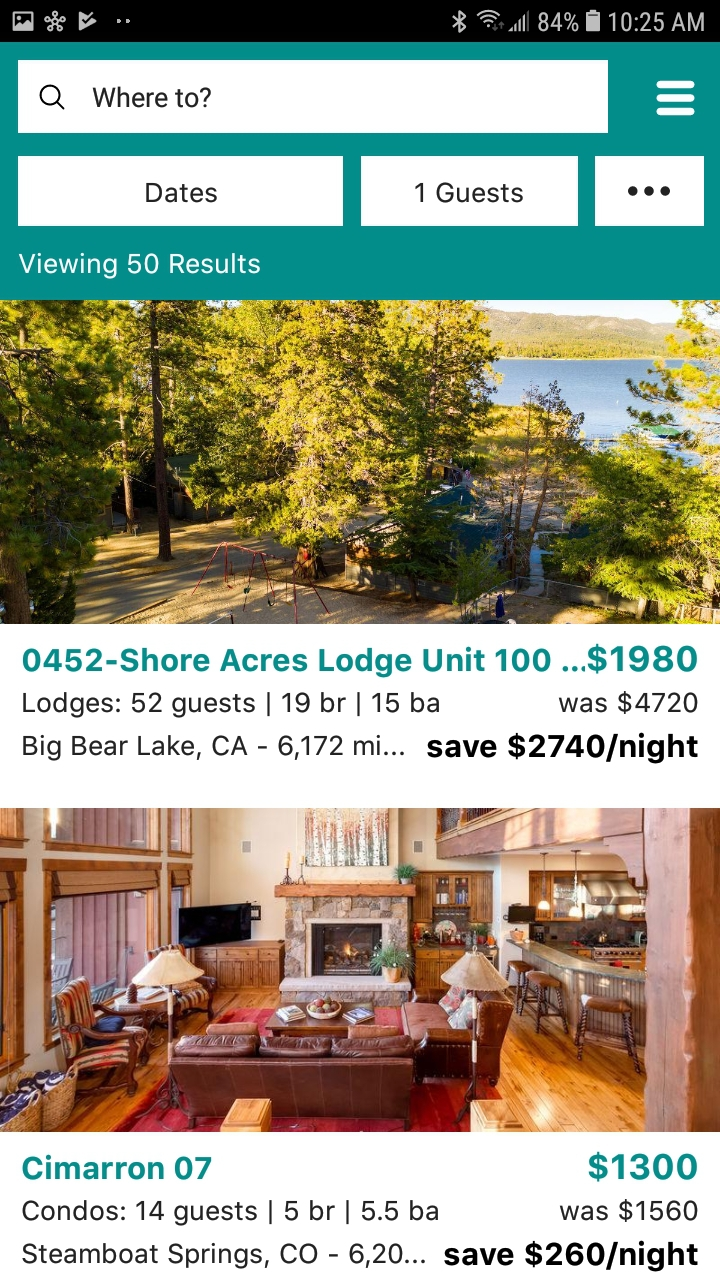EditText: (18, 61, 608, 134)
Icon: (655, 80, 695, 117), (40, 85, 66, 111)
Image: (1, 808, 720, 1132), (1, 301, 719, 625)
Text: (23, 643, 698, 678), (24, 732, 699, 765), (23, 1240, 699, 1272), (22, 1199, 439, 1226), (23, 692, 440, 719), (19, 253, 261, 280), (23, 1154, 213, 1180), (589, 1150, 698, 1182), (559, 1199, 698, 1223), (559, 691, 698, 715), (93, 87, 212, 109)
TextButton: (19, 157, 344, 227), (361, 157, 578, 227), (594, 156, 704, 227)
UpperTaskBar: (1, 1, 720, 43)
